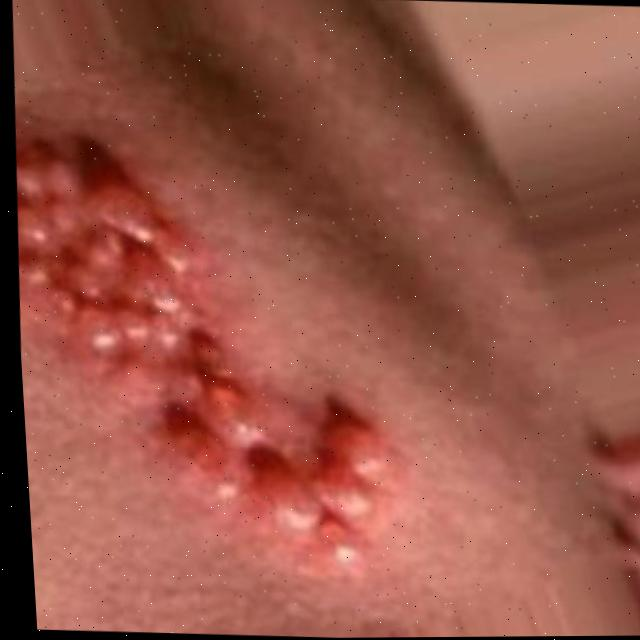Shingles: (8, 127, 416, 571)
